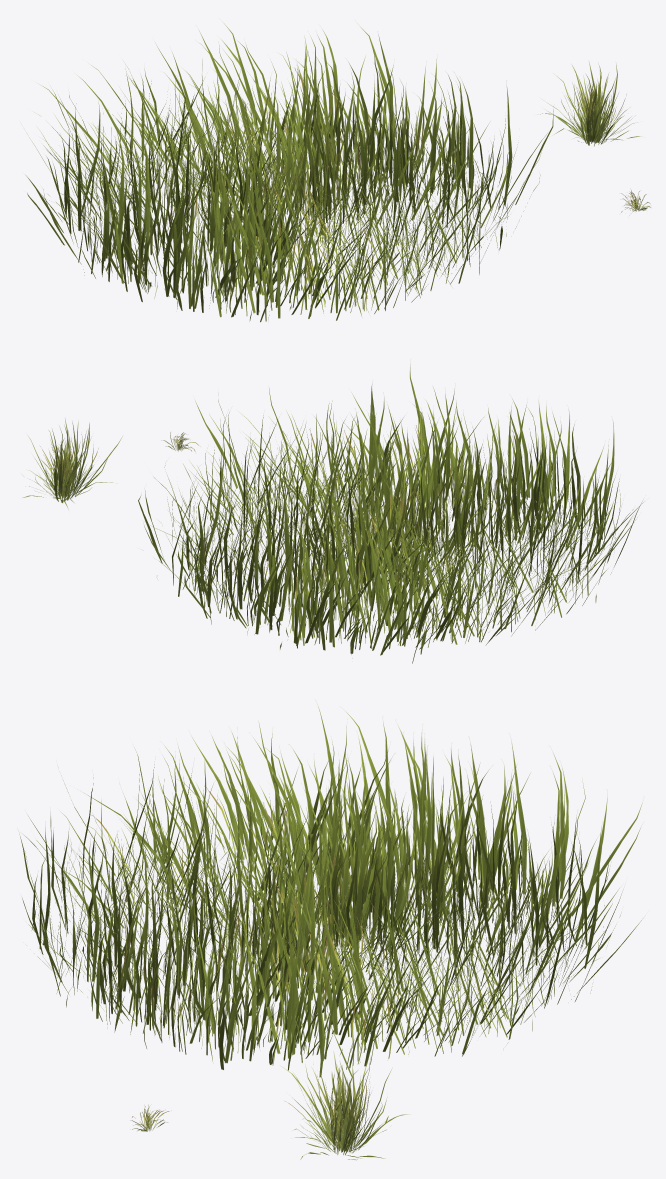
The model's file is grass.glb.
3 views of the same model, one above another, from view 1: azimuth 30°, elevation 25°; view 2: azimuth 150°, elevation 25°; view 3: azimuth 270°, elevation 25° (orthographic). The views are drawn at different scales.
Visible parts, largest first — view 1: Object_8, Object_21, Object_10, Object_12; view 2: Object_8, Object_21, Object_12, Object_10; view 3: Object_8, Object_21, Object_12, Object_10.
Part boxes in pixels (x1=…): Object_8: x1=26, y1=24, x2=647, y2=322; Object_21: x1=40, y1=36, x2=547, y2=316; Object_10: x1=93, y1=68, x2=650, y2=314; Object_12: x1=27, y1=45, x2=630, y2=320; Object_8: x1=22, y1=364, x2=643, y2=655; Object_21: x1=150, y1=387, x2=633, y2=649; Object_12: x1=28, y1=408, x2=629, y2=663; Object_10: x1=36, y1=420, x2=614, y2=643; Object_8: x1=19, y1=706, x2=642, y2=1159; Object_21: x1=37, y1=723, x2=602, y2=1070; Object_12: x1=25, y1=779, x2=604, y2=1154; Object_10: x1=48, y1=785, x2=569, y2=1154.
Size of the model in its own units: 4.79 by 0.9999 by 3.57.
4 materials, 4 textured.
